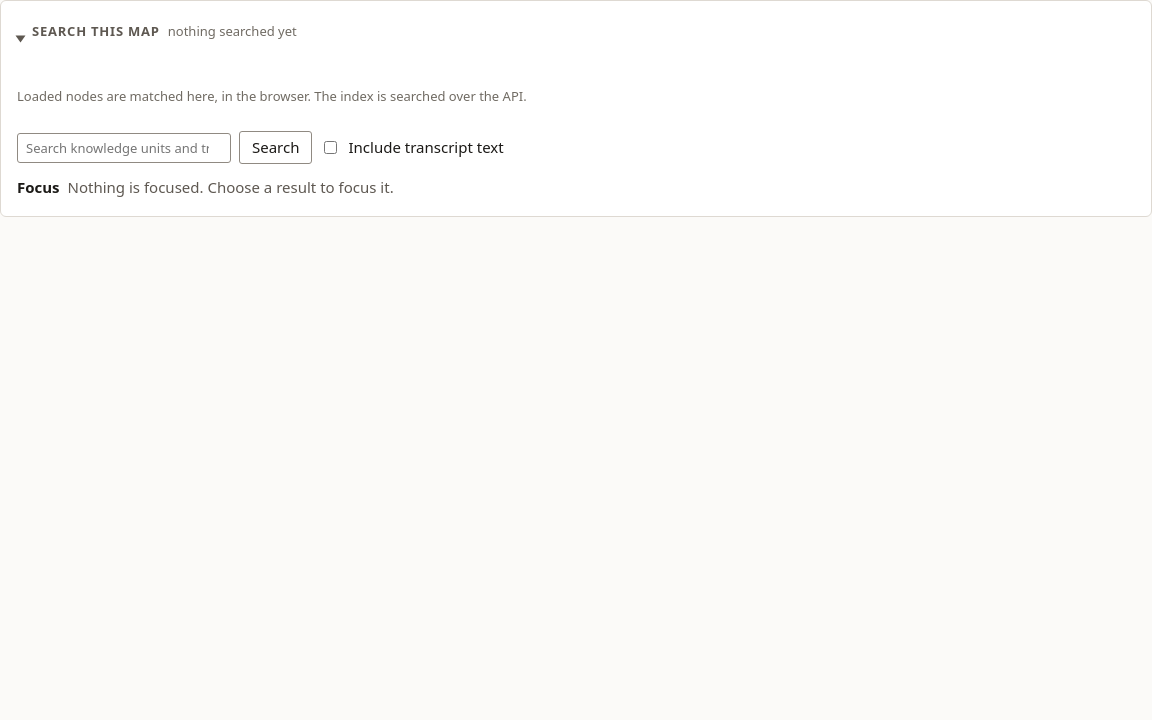
Test: MapSearchRail › says the server did not count rather than showing a zero
Type "coverage" into the search field labelled "Search".
click(124, 148); type("coverage")  # box [17,133,231,163]
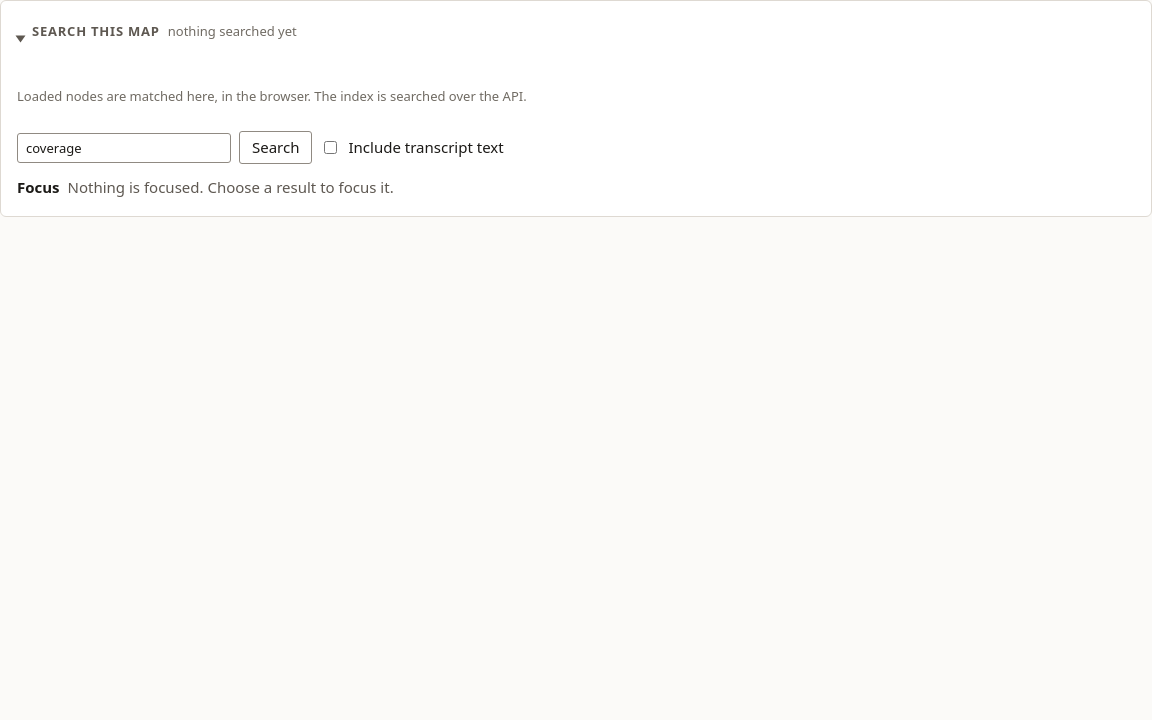
Click the button "Search".
click(276, 148)  # box [239,131,312,164]
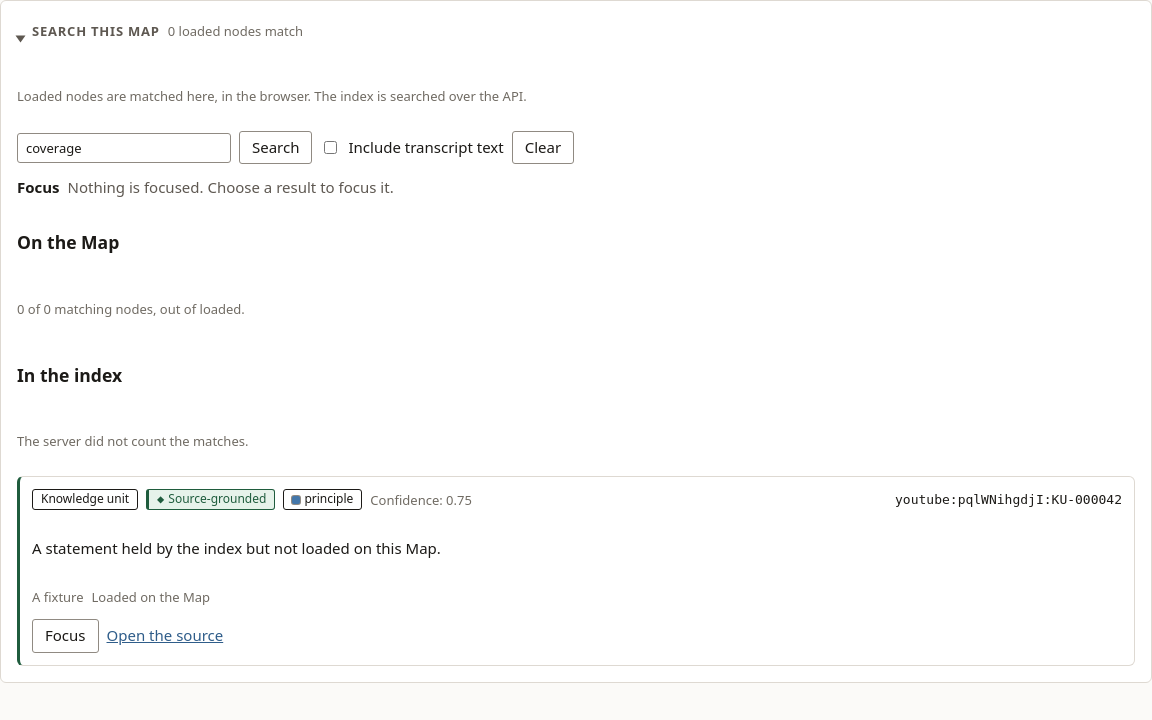
Now the text "The server did not count the matches." is shown, box [17,432,248,450]
